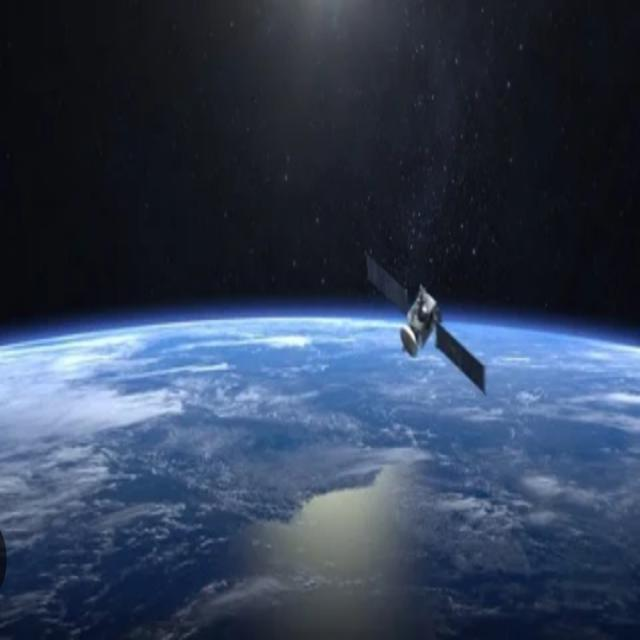medium_debris: (366, 256, 485, 392)
